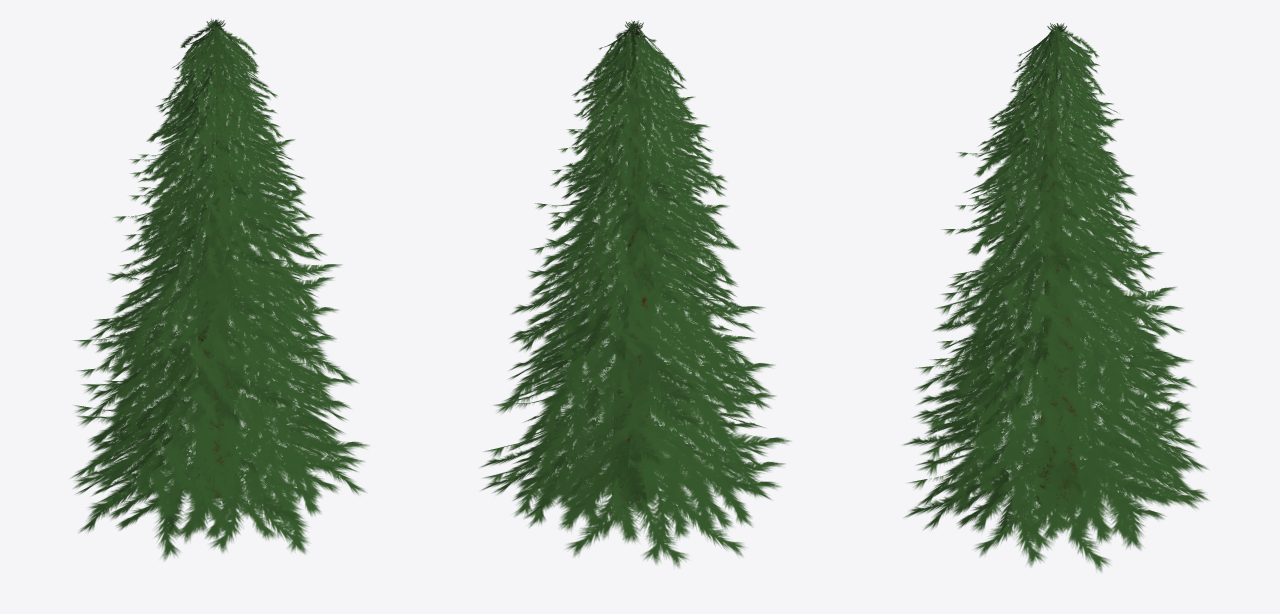
Rendered from pine_tree__low_poly_stylized_tree.glb.
3 views of the same model, side by side, from view 1: azimuth 30°, elevation 25°; view 2: azimuth 150°, elevation 25°; view 3: azimuth 270°, elevation 25° (orthographic).
Parts seen in each view (by area): view 1: TreeBranch, Tree; view 2: TreeBranch; view 3: TreeBranch, Tree.
Part boxes in pixels (x1,y1,x2,y2): TreeBranch: [70, 18, 369, 560]; Tree: [196, 27, 236, 497]; TreeBranch: [479, 20, 790, 567]; TreeBranch: [903, 23, 1209, 571]; Tree: [1036, 38, 1078, 505].
Bounding box in the file's own units: 0.1206 × 0.1686 × 0.1217.
Materials: 2 (2 with a texture image).
